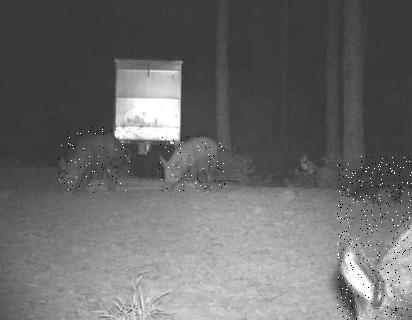Hog: (337, 161, 412, 320), (58, 126, 130, 193), (158, 134, 225, 192), (346, 156, 410, 203)
